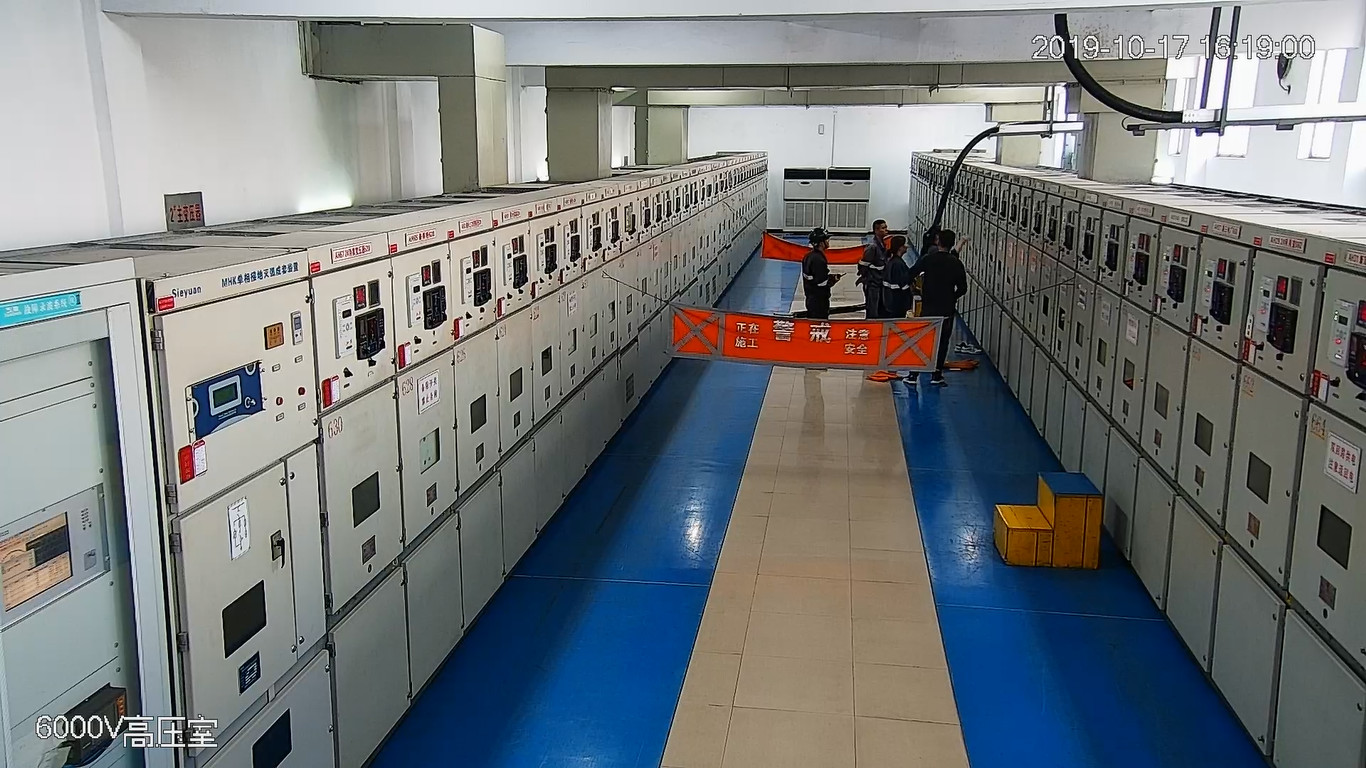helmet: (808, 227, 832, 244)
